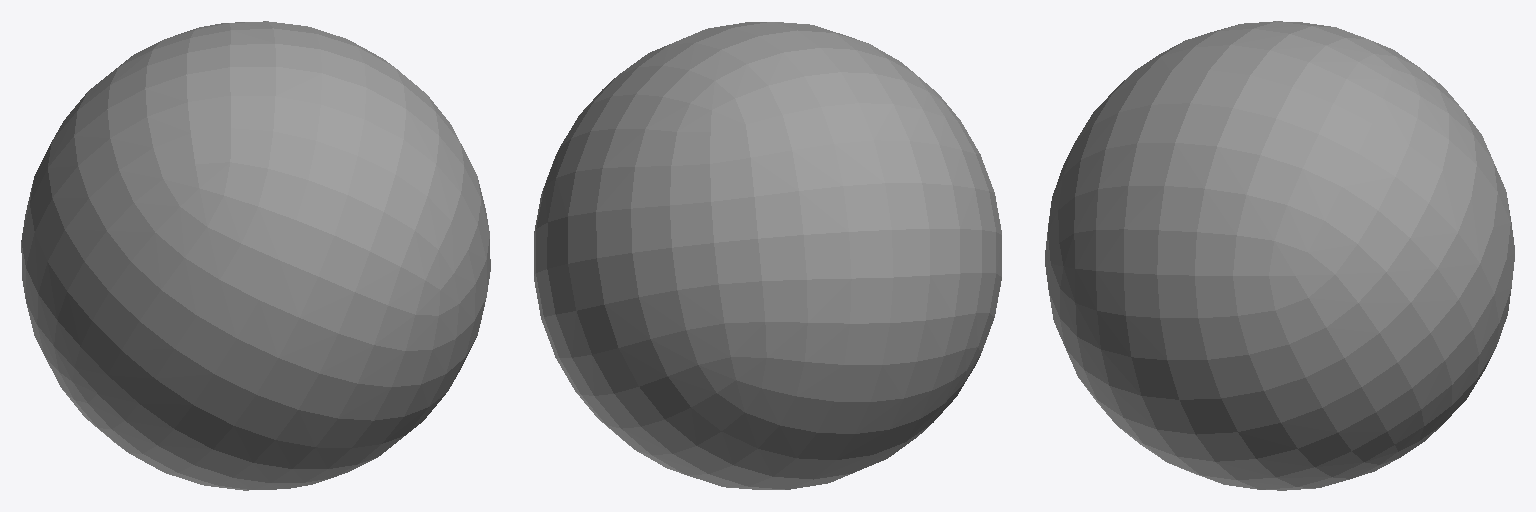
The model's file is mercury.obj.
The picture shows the model from 3 angles: view 1: azimuth 30°, elevation 25°; view 2: azimuth 150°, elevation 25°; view 3: azimuth 270°, elevation 25°; orthographic projection.
Visible parts, largest first — view 1: Mercury; view 2: Mercury; view 3: Mercury.
Boxes of the visible parts, box(x1,y1,x2,y2) form: Mercury: box(21, 21, 490, 490); Mercury: box(534, 22, 1001, 489); Mercury: box(1045, 21, 1514, 490).
Bounding box in the file's own units: 0.4801 × 0.4795 × 0.4811.